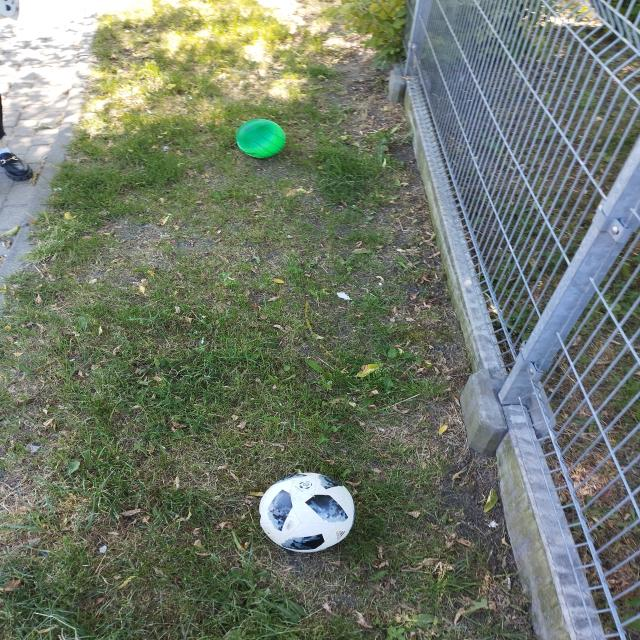nozna: (260, 472, 355, 553)
zielona: (236, 119, 286, 159)
